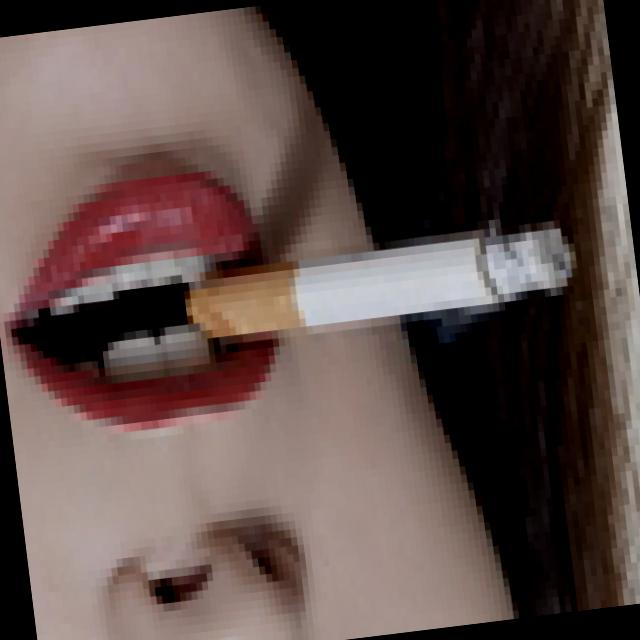smoke: (280, 218, 580, 329)
